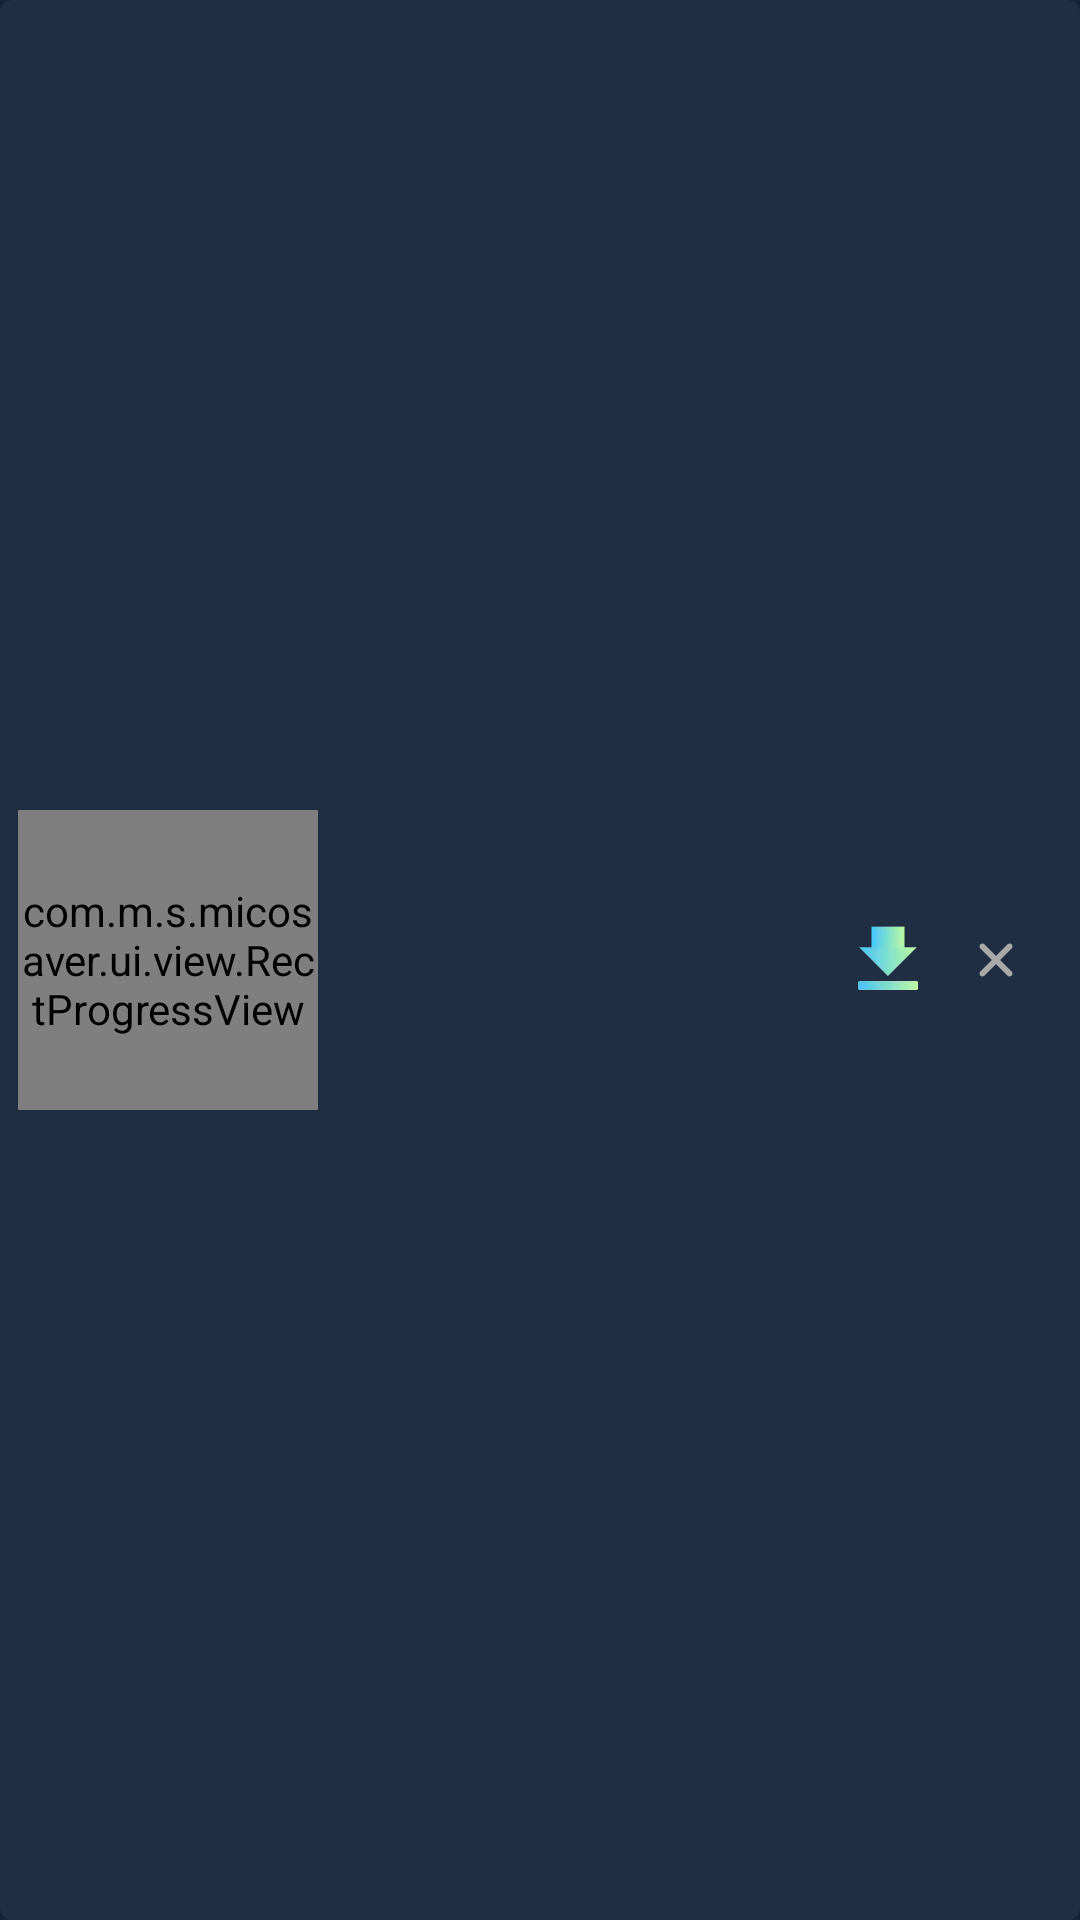

Icon bounding boxes for this 1080w x 1920h phone screenshot, format (x1,y1,x2,y2):
close: (979,943,1013,977)
download state: (858,926,918,990)
